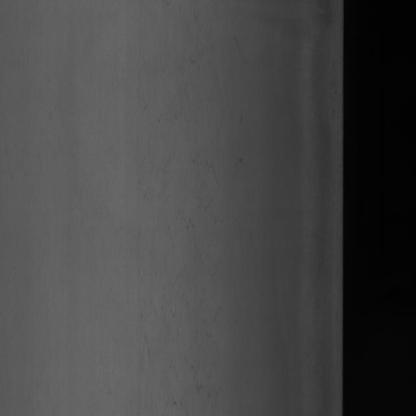silk_spot: (126, 145, 240, 367)
